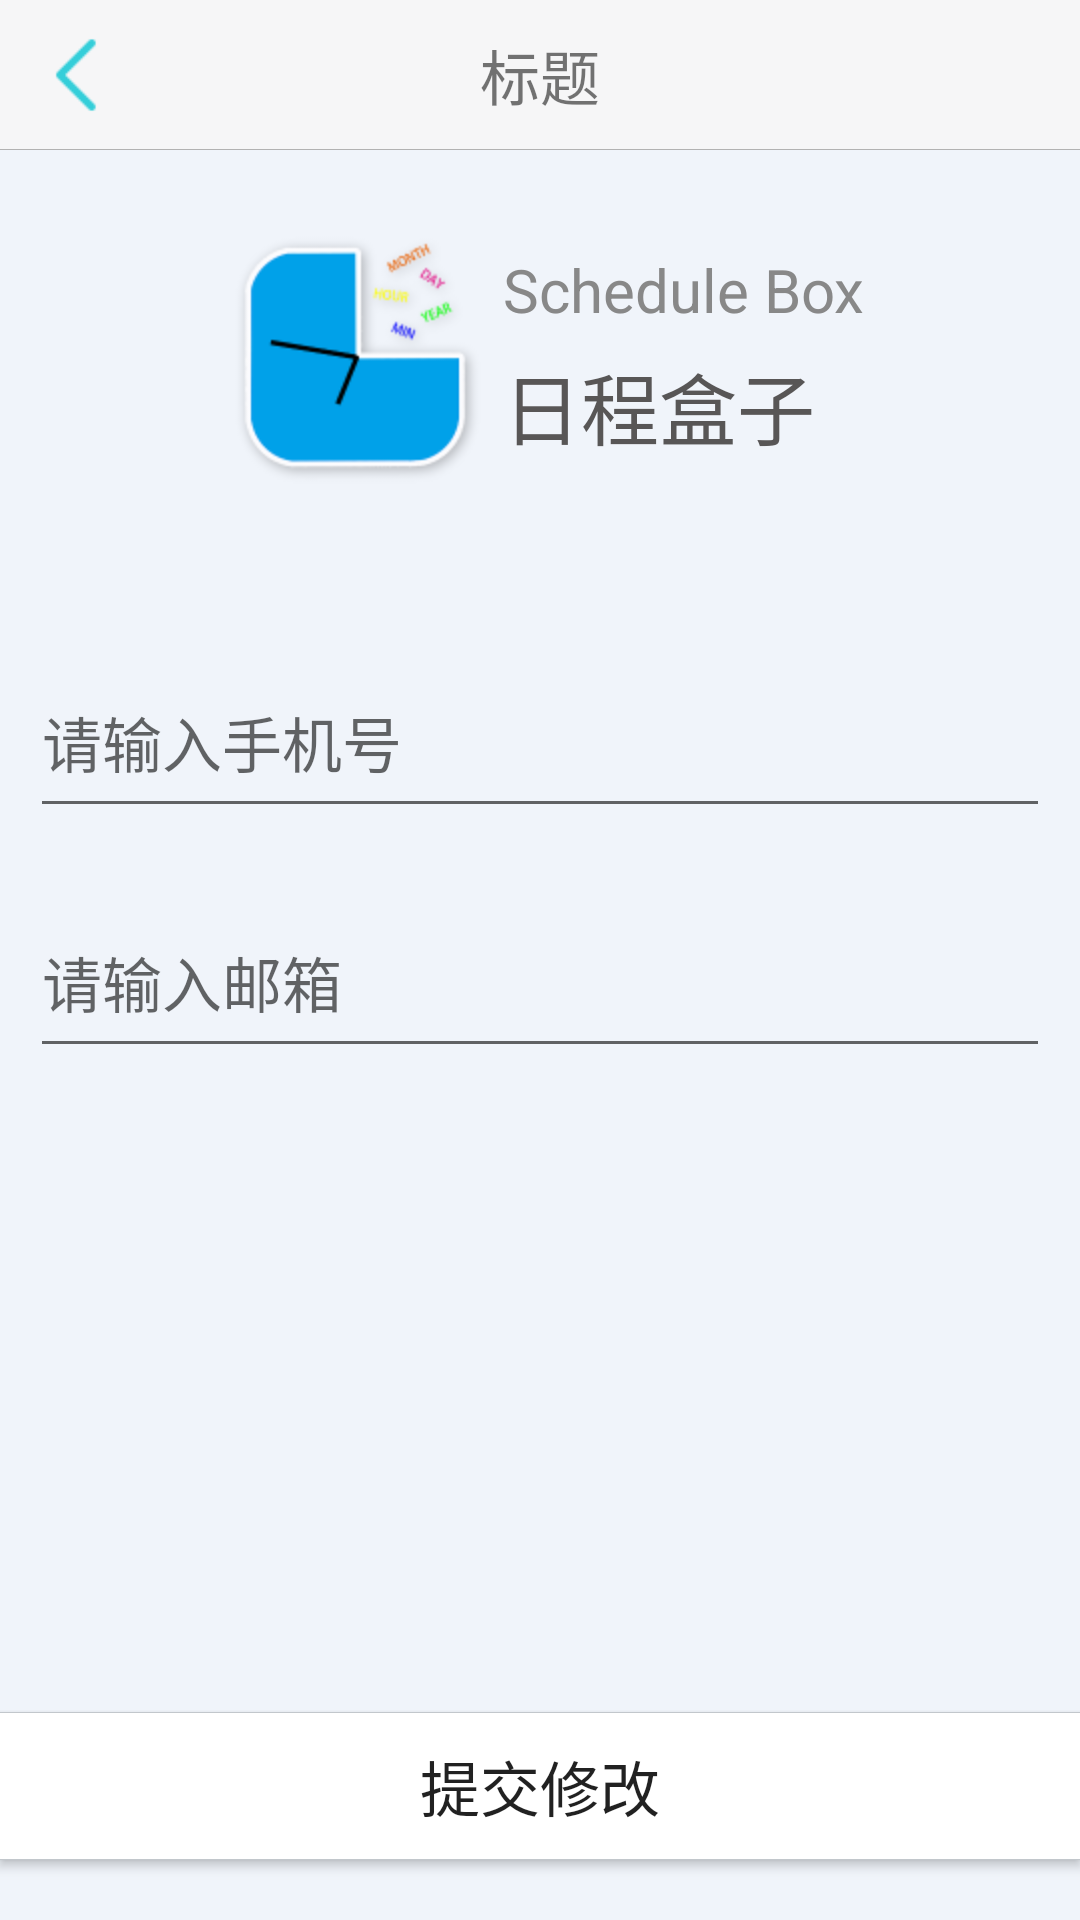

Icons on this 1080*1920 Android screen, each with the point to tap as (x,y):
explorer backward: (76,75)
